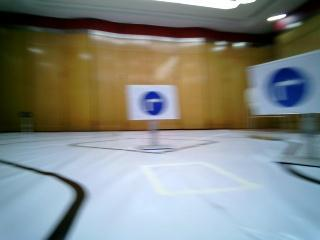right: (252, 65, 320, 114), (126, 85, 178, 119)
